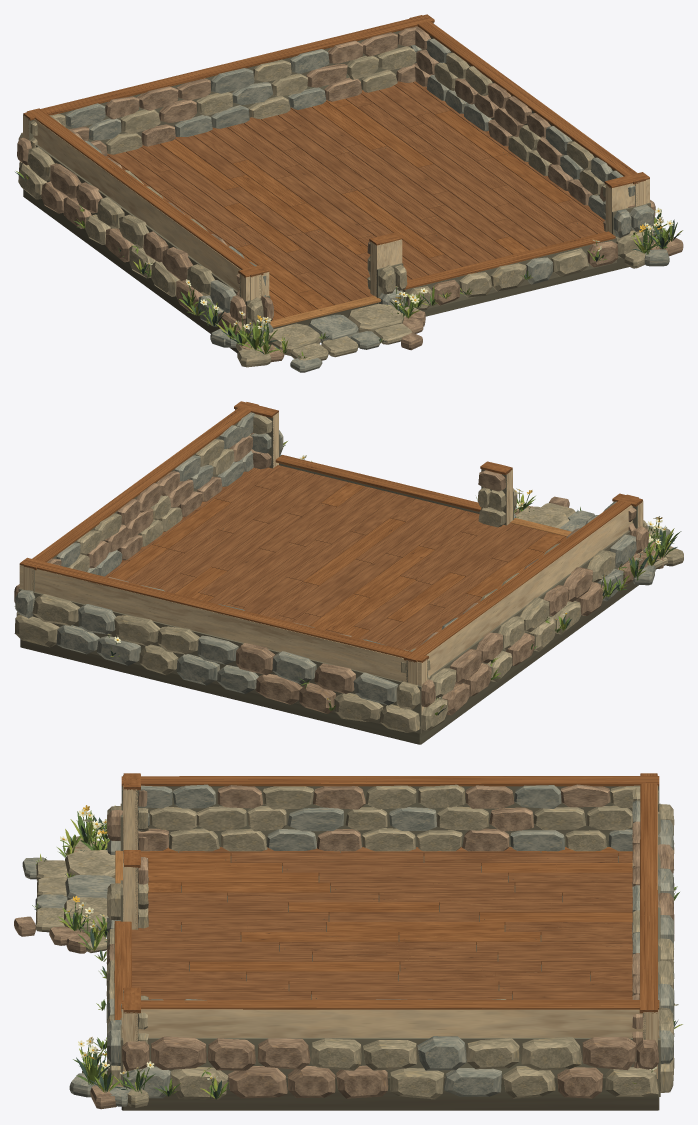
File: SM_GukbapShopFloor.fbx
The picture shows the model from 3 angles, top to bottom: view 1: azimuth 30°, elevation 25°; view 2: azimuth 150°, elevation 25°; view 3: azimuth 270°, elevation 25°; orthographic projection. The views are drawn at different scales.
Visible parts, largest first — view 1: SM_GukbapShopFloor; view 2: SM_GukbapShopFloor; view 3: SM_GukbapShopFloor.
Part boxes in pixels (x1,y1,x2,y2): SM_GukbapShopFloor: (15, 14, 683, 372); SM_GukbapShopFloor: (14, 401, 683, 744); SM_GukbapShopFloor: (14, 773, 682, 1110).
Size of what is drawn, in the model's own units: 562 by 598 by 99.43.
1 material, 1 textured.
